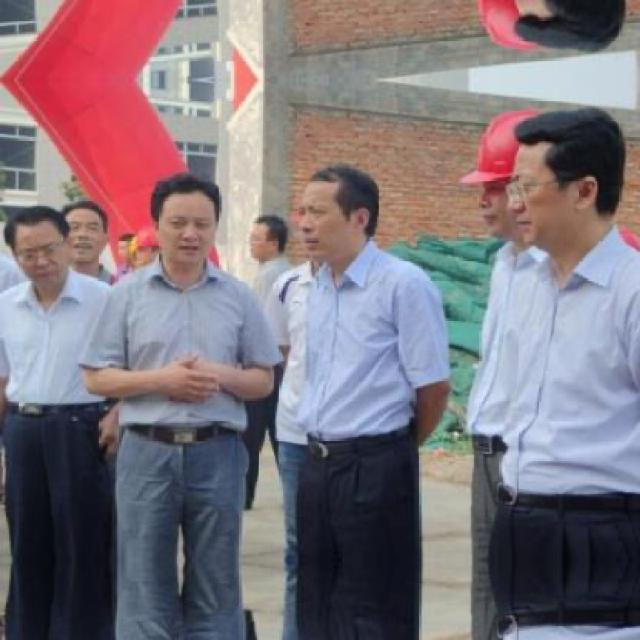sin casco: (463, 79, 640, 244), (248, 158, 422, 287), (144, 168, 258, 280), (18, 215, 81, 278), (65, 193, 105, 253)
